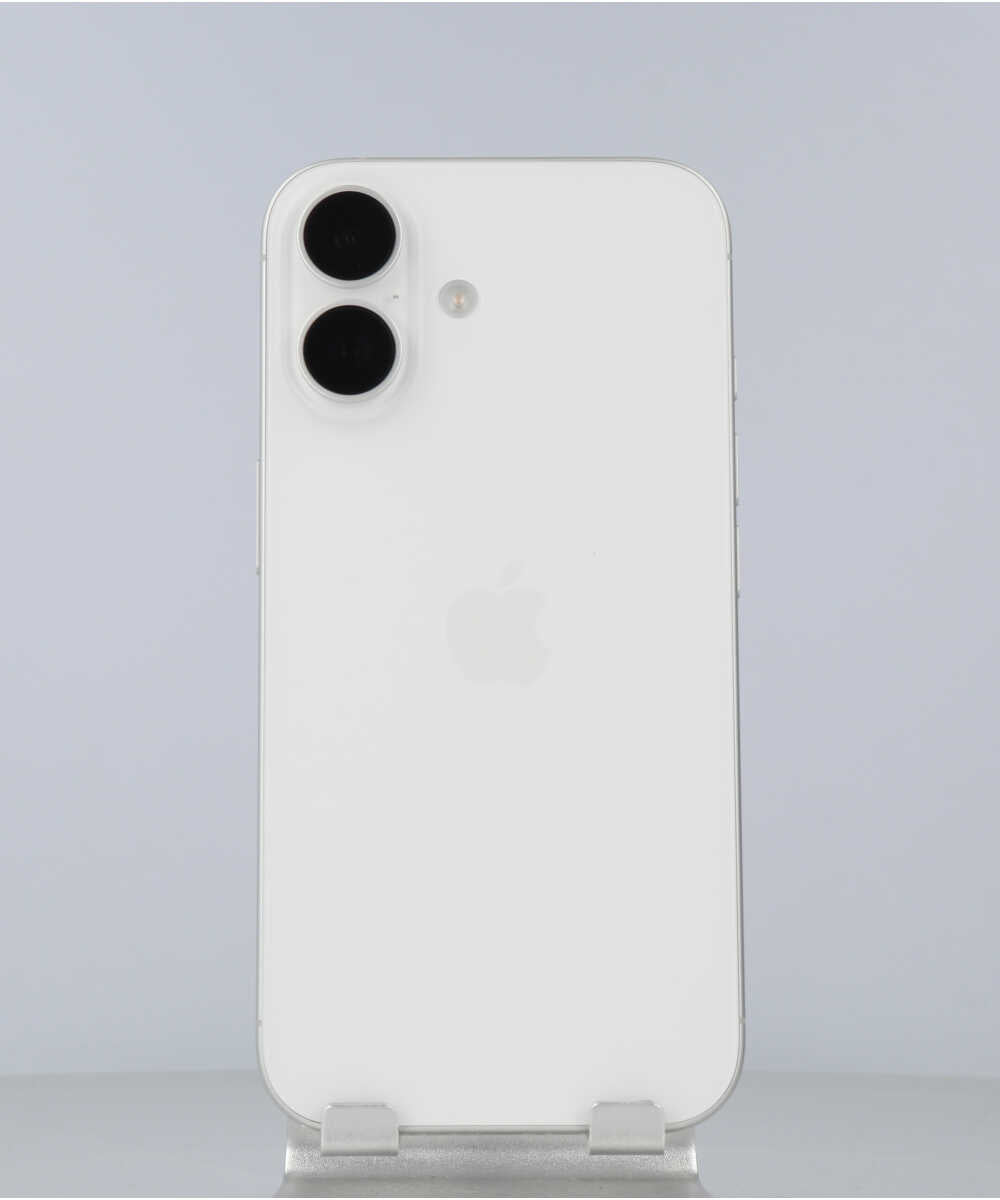iphone16_white: (240, 129, 772, 1144), (269, 176, 501, 421)
